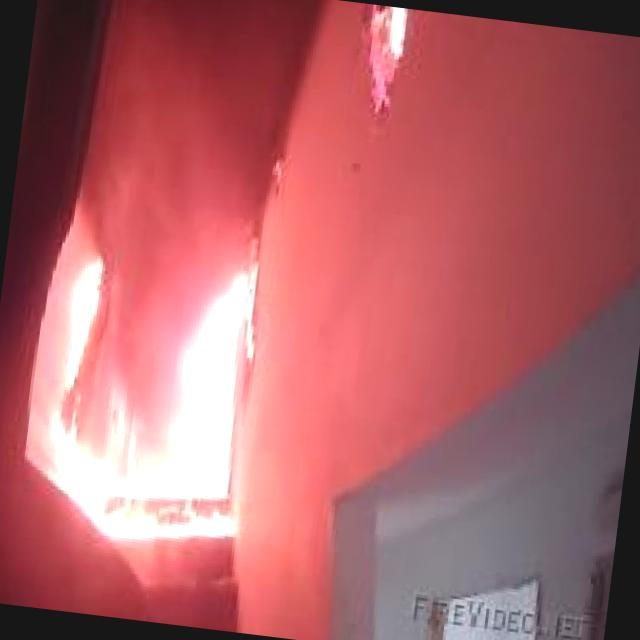fire: (21, 217, 276, 542)
